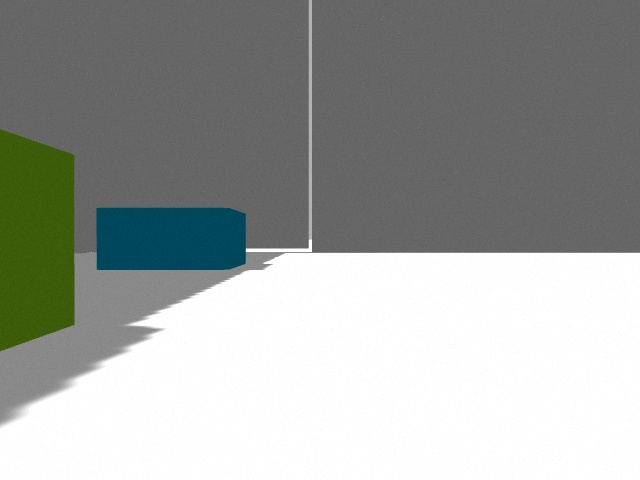blue_drop_zone: (96, 208, 246, 270)
green_drop_zone: (0, 129, 75, 351)
